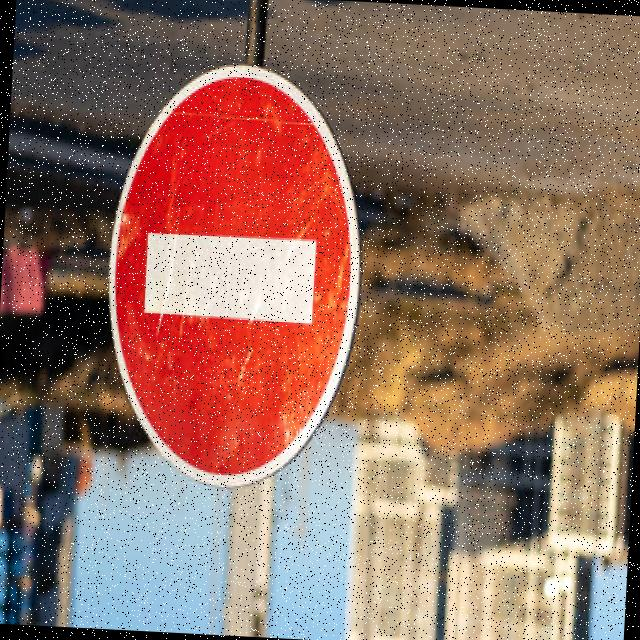do_not_enter: (87, 62, 376, 504)
